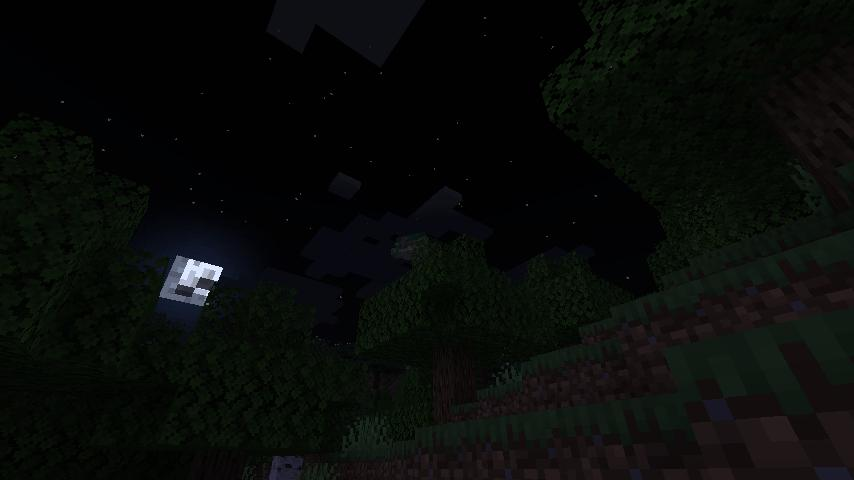turtle: (388, 228, 442, 264)
